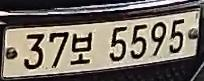3: (23, 32, 47, 70)
5: (108, 25, 129, 63), (129, 23, 148, 59), (168, 18, 186, 56)
7: (48, 30, 70, 69)
9: (149, 20, 168, 58)
보: (70, 31, 94, 66)
